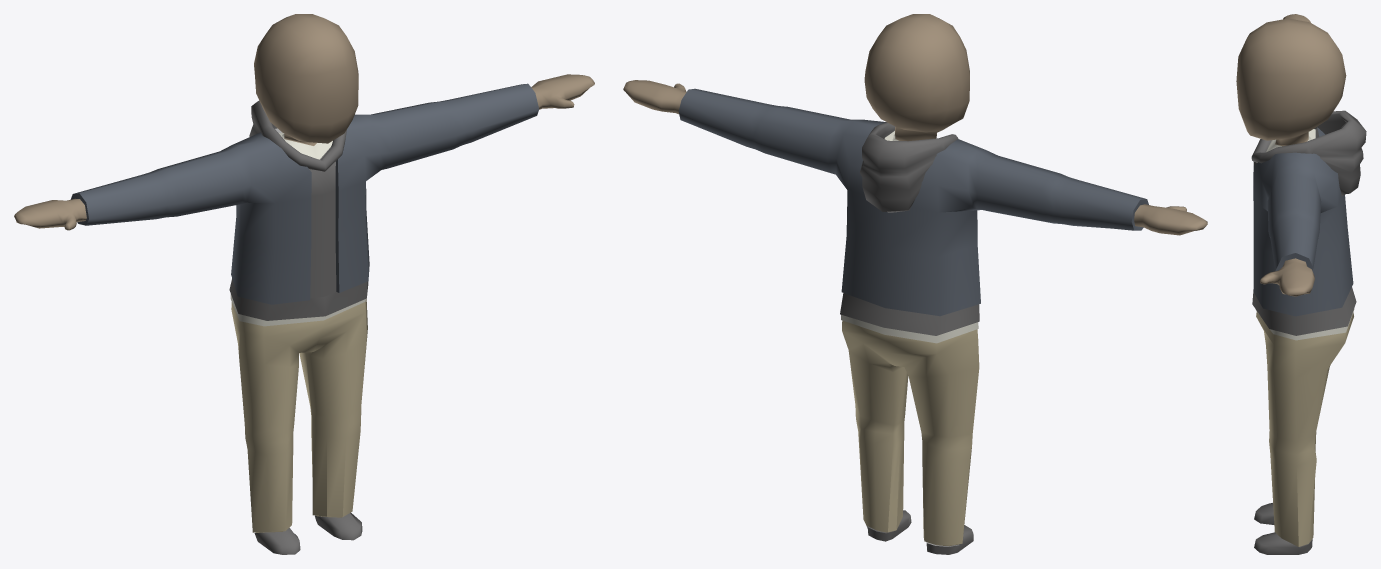
The model's file is Player.fbx.
The picture shows the model from 3 angles, left to right: view 1: azimuth 30°, elevation 25°; view 2: azimuth 150°, elevation 25°; view 3: azimuth 270°, elevation 25°; orthographic projection.
Visible parts, largest first — view 1: Player_mesh, Hood_mesh; view 2: Player_mesh, Hood_mesh; view 3: Player_mesh, Hood_mesh.
Boxes of the visible parts, left/top/right/bottom form: Player_mesh: left=14, top=14, right=594, bottom=554; Hood_mesh: left=249, top=100, right=346, bottom=171; Player_mesh: left=623, top=14, right=1207, bottom=554; Hood_mesh: left=859, top=122, right=958, bottom=212; Player_mesh: left=1236, top=14, right=1356, bottom=554; Hood_mesh: left=1251, top=110, right=1366, bottom=195.
Bounding box in the file's own units: 9.84 × 8.44 × 1.95.
